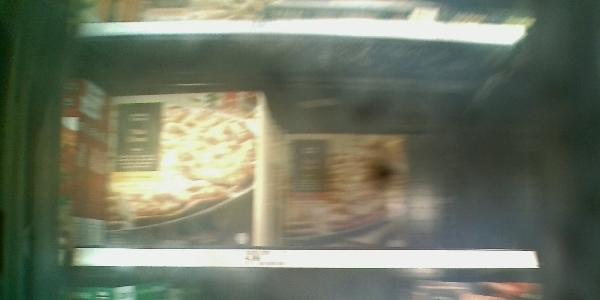pizza: (102, 93, 254, 246), (280, 131, 410, 250)
